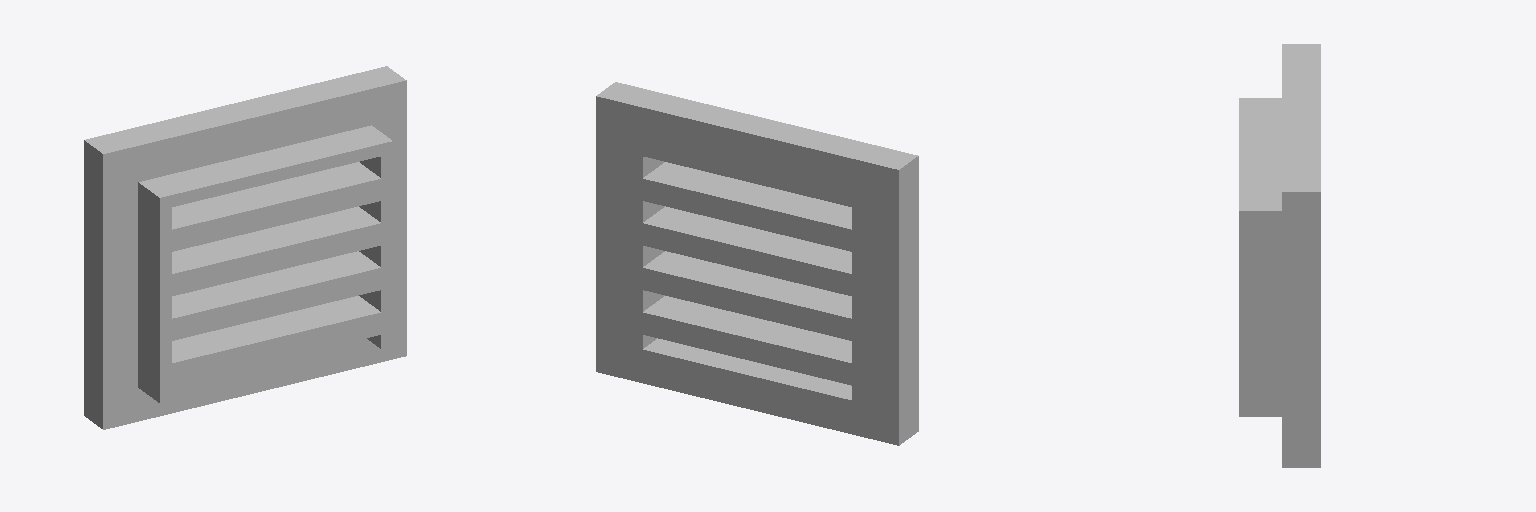
File: speaker grill.obj
3 views of the same model, side by side, from view 1: azimuth 30°, elevation 25°; view 2: azimuth 150°, elevation 25°; view 3: azimuth 270°, elevation 25° (orthographic).
Parts seen in each view (by area): view 1: Mesh1 Group1 Model; view 2: Mesh1 Group1 Model; view 3: Mesh1 Group1 Model.
Boxes of the visible parts, x1=… form: Mesh1 Group1 Model: x1=84, y1=66, x2=406, y2=429; Mesh1 Group1 Model: x1=596, y1=82, x2=918, y2=445; Mesh1 Group1 Model: x1=1239, y1=44, x2=1320, y2=467.
Size of the model in its own units: 18.71 by 16.27 by 4.39.